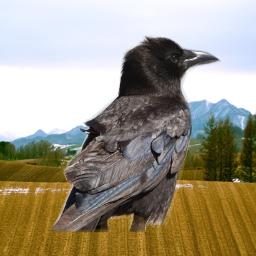Crow: (50, 35, 222, 232)
